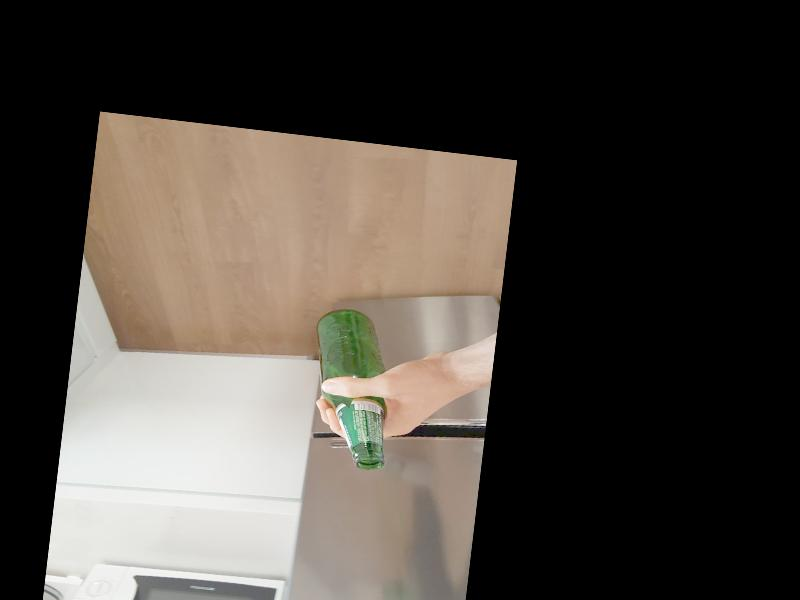Beer: (302, 305, 401, 471)
